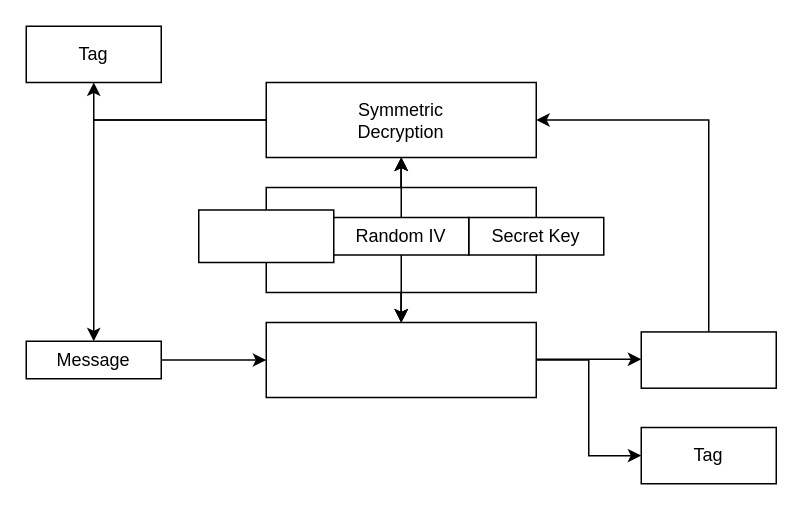
This 803x510 diagram has some shape labels left out. Here are the shapes that lost their labels. From the top down, the centre of each, then its label:
At (265,235): "Mode GCM/CCM".
At (400,359): "Symmetric Encryption".
At (708,359): "Encrypted Message".
